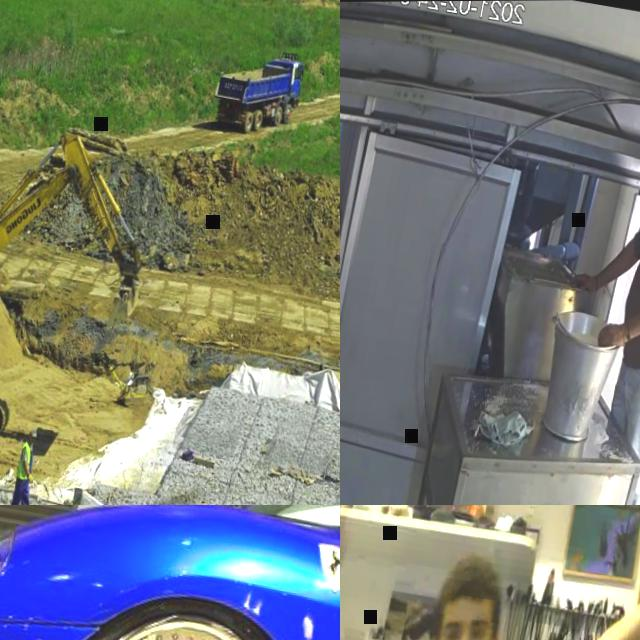machinery: (0, 100, 169, 480), (210, 38, 310, 140)
no_helmet: (439, 551, 502, 613), (30, 426, 40, 436)
no_mask: (29, 438, 35, 442)
no_vest: (619, 175, 640, 368)
person: (511, 74, 640, 505), (340, 505, 640, 640), (9, 424, 47, 505)
vehicle: (0, 505, 340, 640)
vest: (16, 440, 38, 479)
